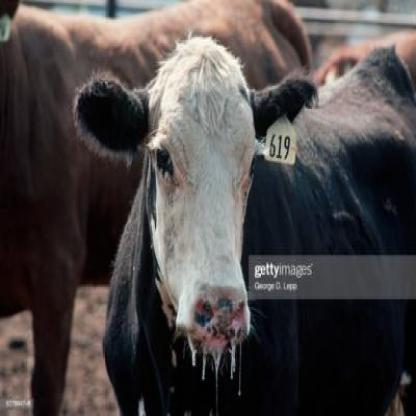lower: (211, 337, 224, 353)
mouth: (172, 278, 253, 357)
upper: (215, 302, 231, 317)
